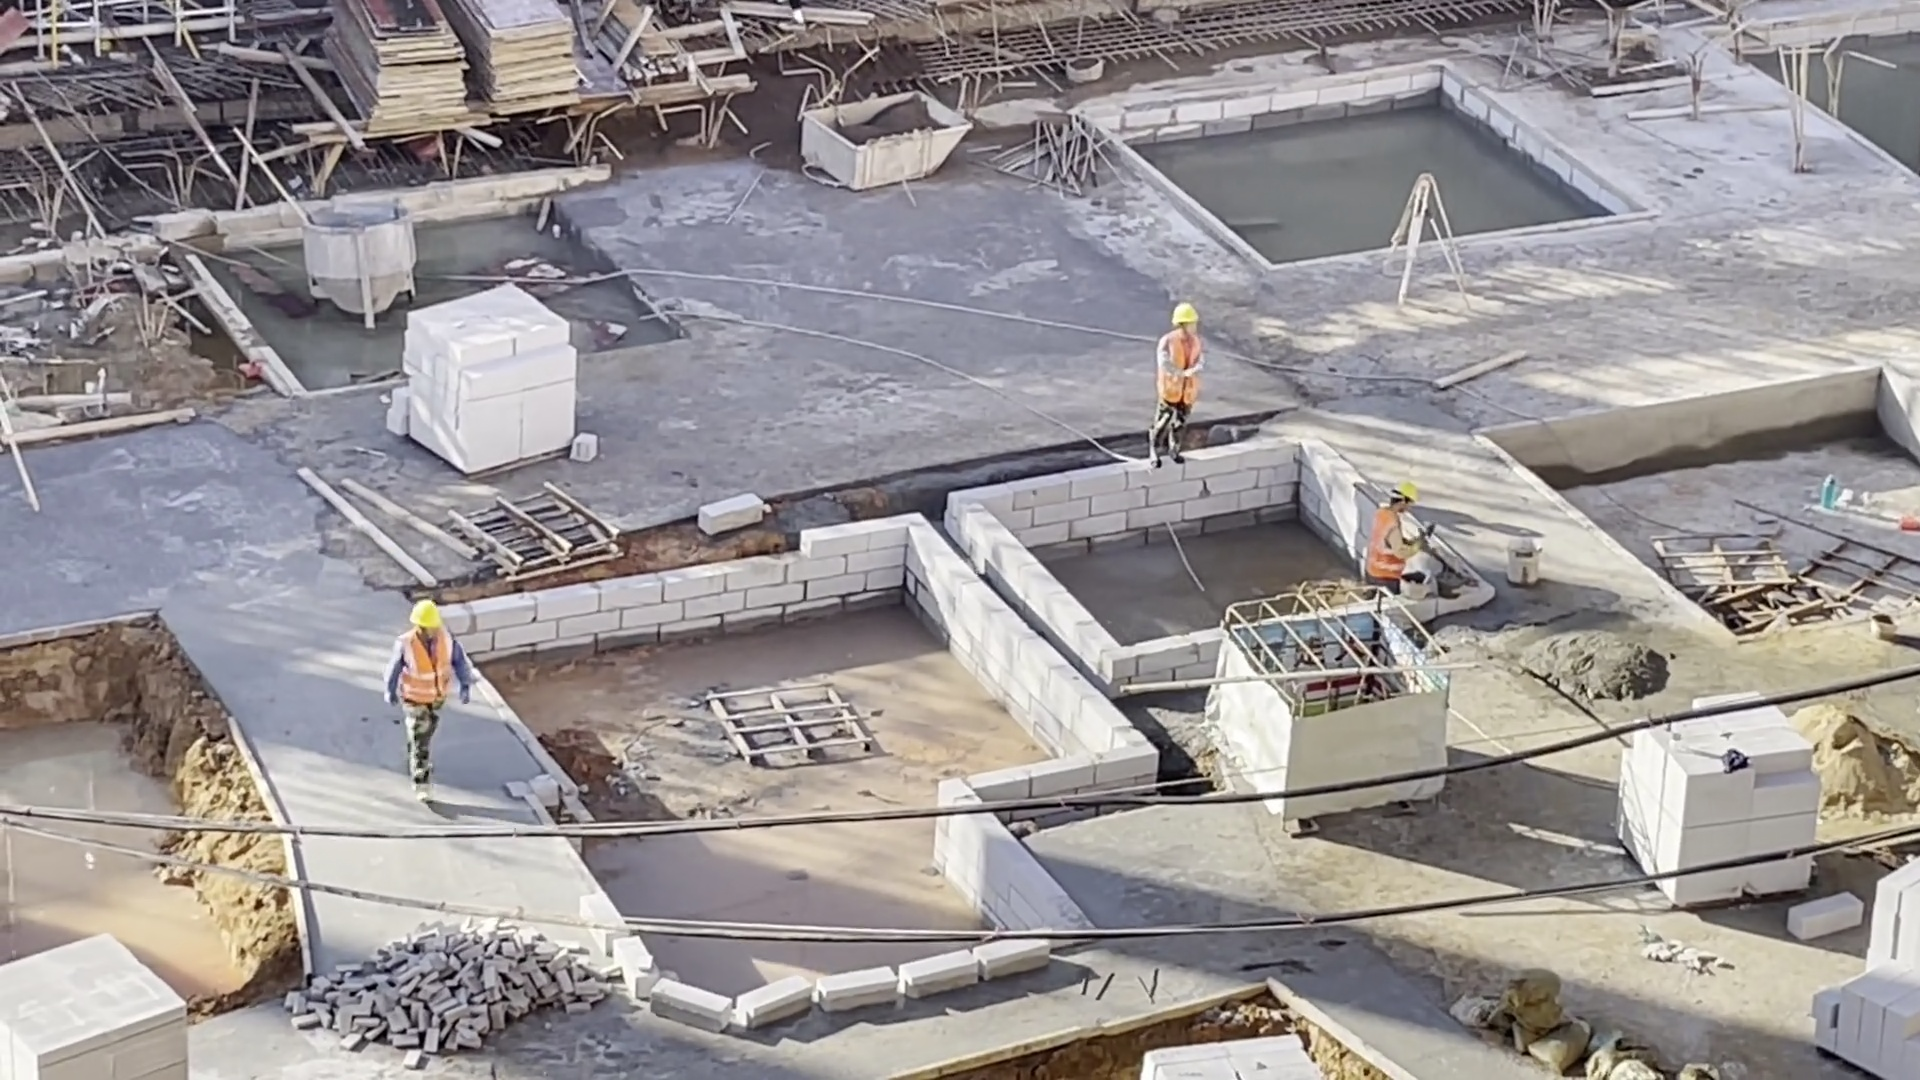board: (319, 2, 474, 141), (441, 1, 586, 119)
brick: (395, 276, 576, 476), (1, 929, 195, 1078), (1794, 857, 1918, 1080), (1620, 734, 1830, 852), (1143, 1032, 1313, 1080)
helmet: (405, 597, 446, 632), (1166, 301, 1201, 331), (1387, 480, 1420, 504)
hopper: (799, 82, 970, 191), (299, 193, 415, 330)
person: (379, 597, 479, 805), (1142, 299, 1199, 473), (1363, 479, 1437, 598)
vest: (397, 630, 460, 705), (1154, 329, 1201, 408), (1366, 508, 1408, 581)
